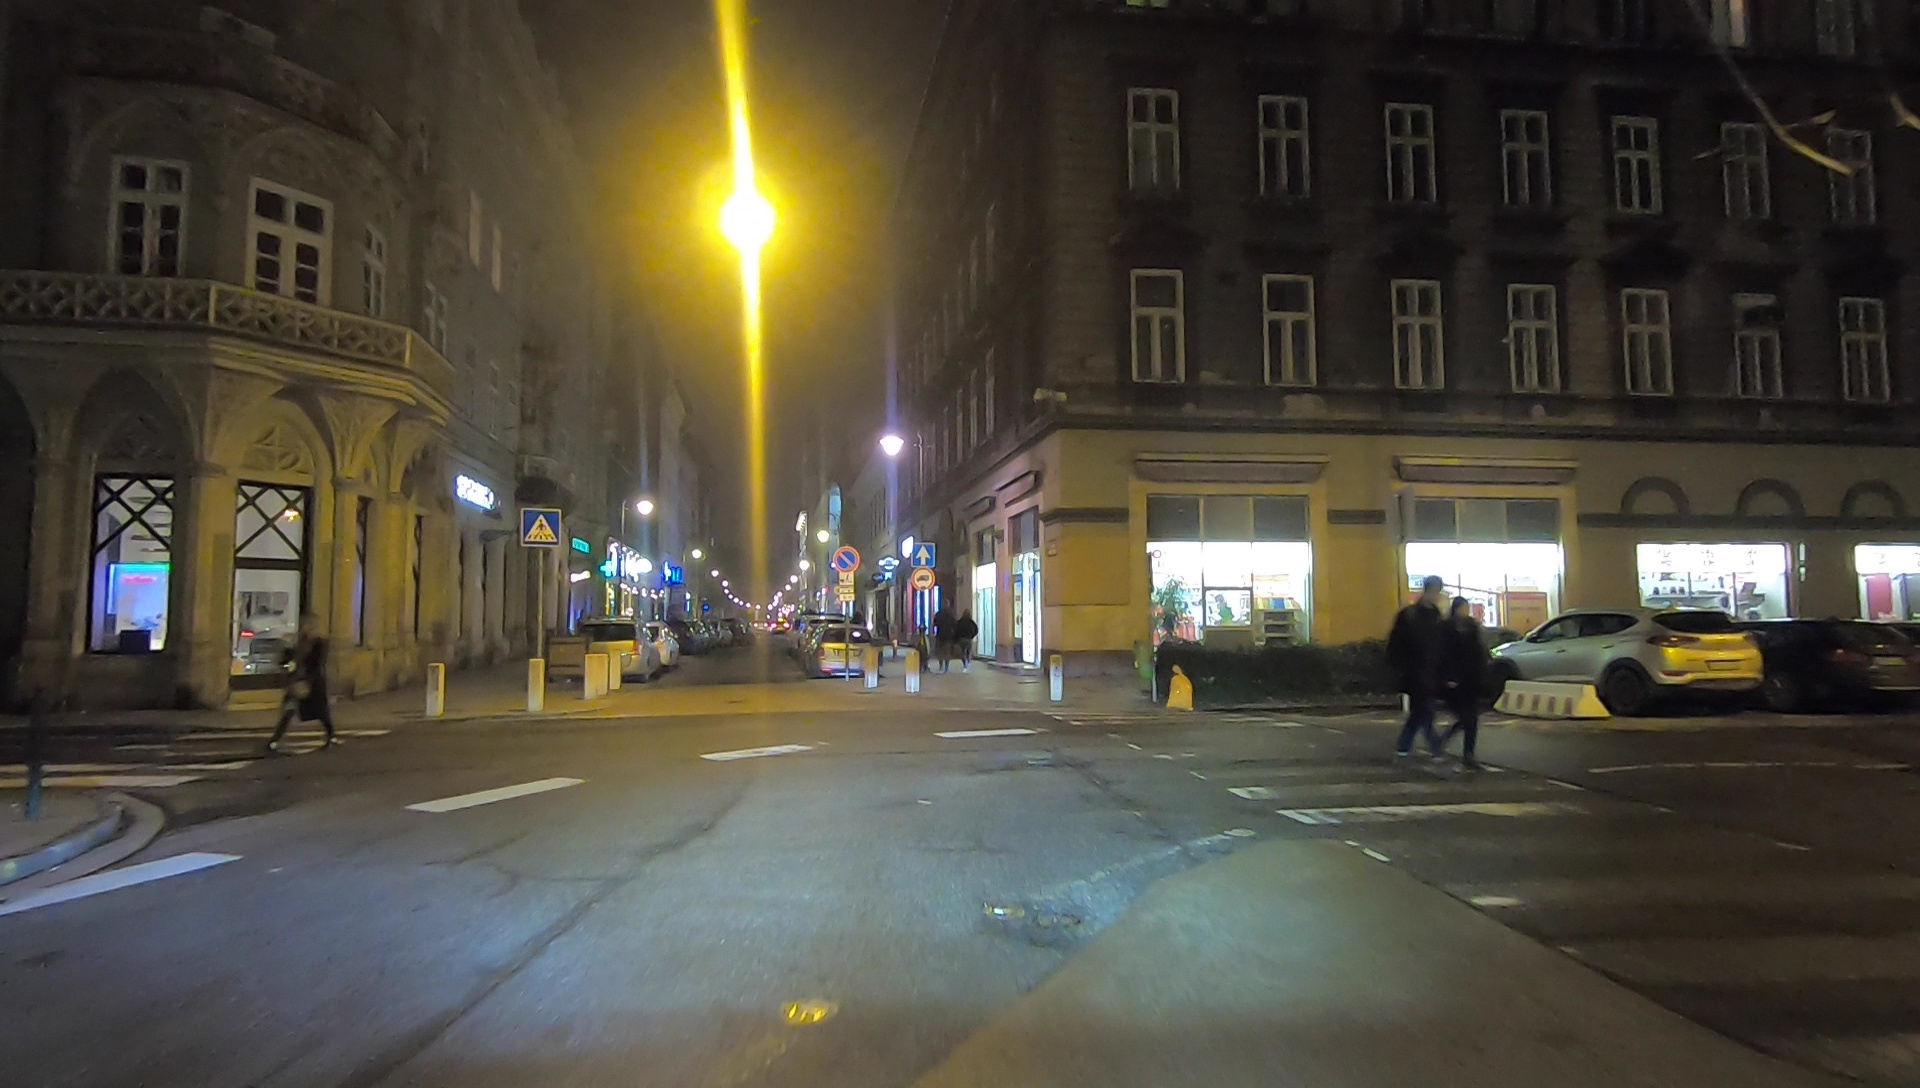person: (1391, 571, 1454, 763), (1441, 595, 1493, 767), (275, 619, 336, 747), (956, 610, 978, 669), (934, 602, 952, 669)
